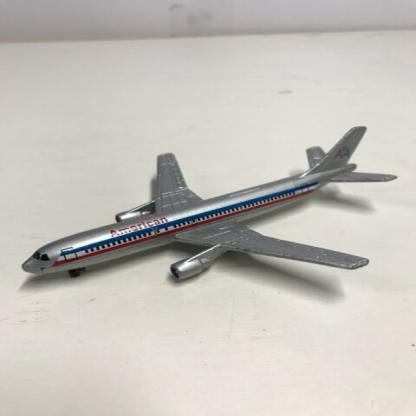CIV_Plane: (17, 120, 401, 291)
